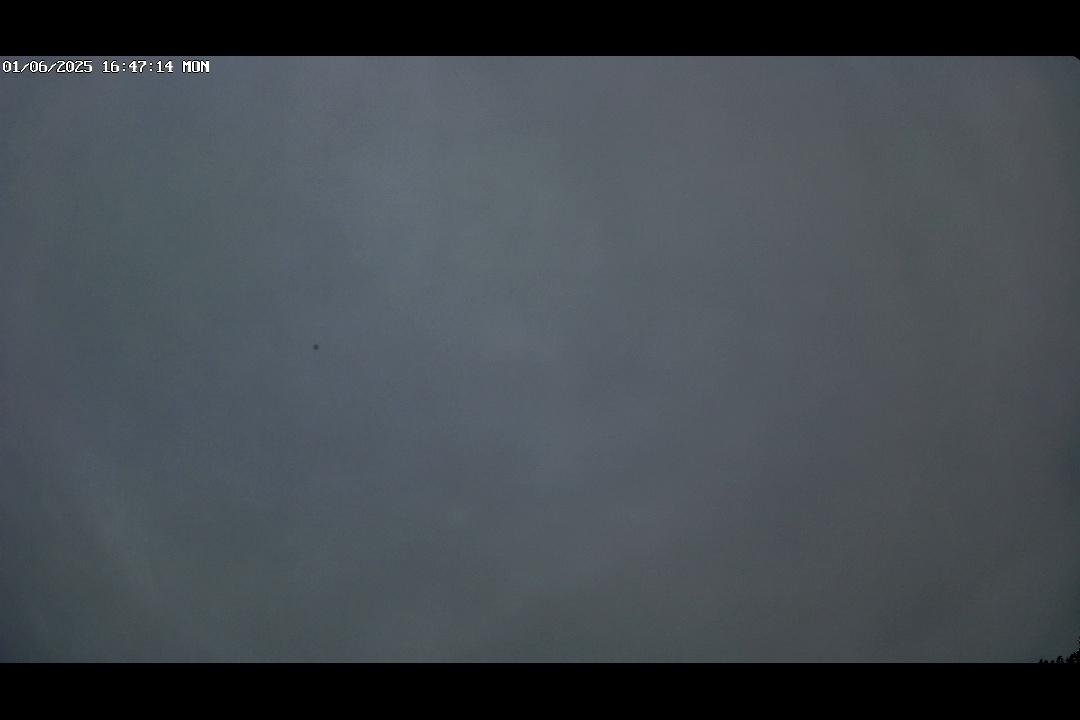WildLife: (309, 337, 330, 354)
